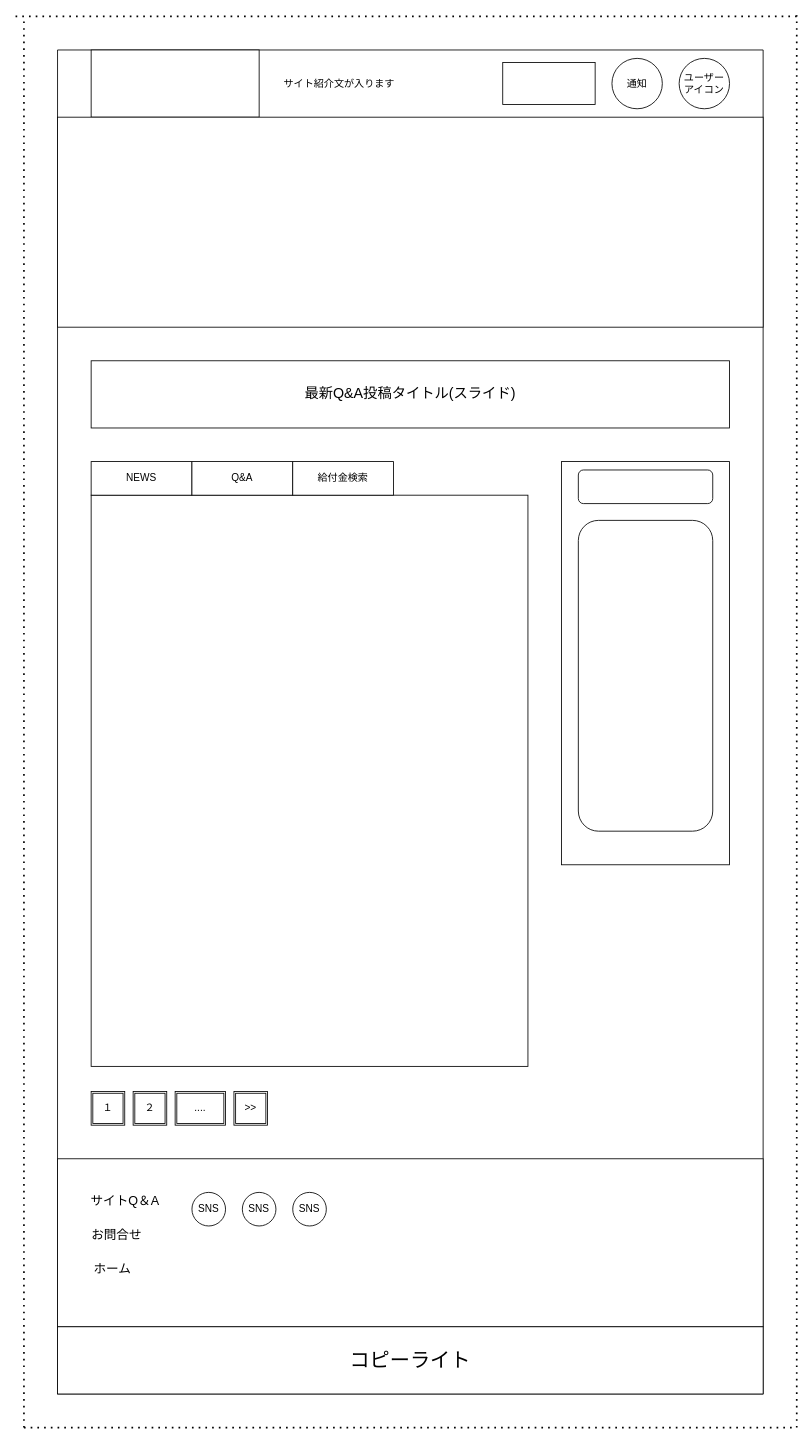
Some shapes in this 812 by 1444 pixel diagram are drawn without their labels. The shapes that lost their labels are listed below. From the top down, each one's box as (x1, y1, x2, y2) in pixels, then its label:
(90, 49, 259, 117): サイトタイトル
(502, 62, 595, 105): 新規投稿
(57, 116, 763, 327): メインビジュアル(最新ニュース記事画像スライド)
(578, 469, 713, 504): キーワード検索
(578, 520, 713, 831): タグ検索
(90, 494, 528, 1066): メインコンテンツ SPAによる一覧,詳細表示
